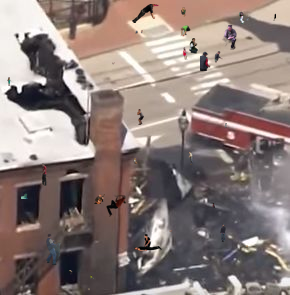Human: (132, 234, 162, 252), (132, 4, 160, 23), (200, 51, 226, 71), (239, 10, 276, 24), (217, 25, 237, 50), (106, 194, 127, 217), (46, 234, 61, 265), (40, 163, 47, 186), (189, 38, 198, 54), (180, 25, 191, 37), (220, 223, 226, 242), (137, 109, 144, 125), (94, 194, 105, 204), (188, 152, 194, 165), (183, 47, 188, 60), (181, 7, 186, 17), (7, 77, 12, 86), (21, 193, 28, 199), (135, 30, 143, 34), (68, 270, 74, 275), (225, 123, 230, 128), (134, 158, 138, 164), (211, 203, 215, 208), (169, 229, 173, 233), (90, 275, 94, 279), (246, 245, 248, 250), (87, 288, 90, 291), (112, 62, 115, 65)
